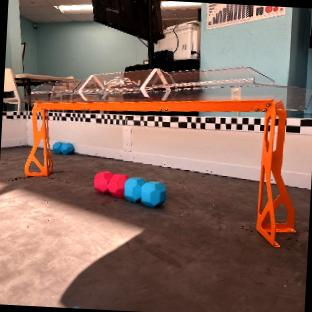Goal: (25, 66, 305, 245)
V5_BLUE: (124, 177, 165, 206), (52, 141, 73, 153)
V5_RED: (94, 171, 126, 197)
